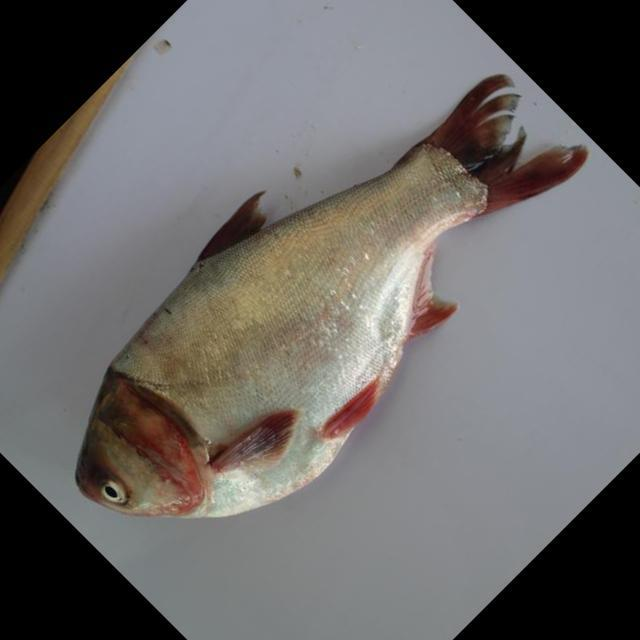SilverCarp: (67, 81, 587, 516)
